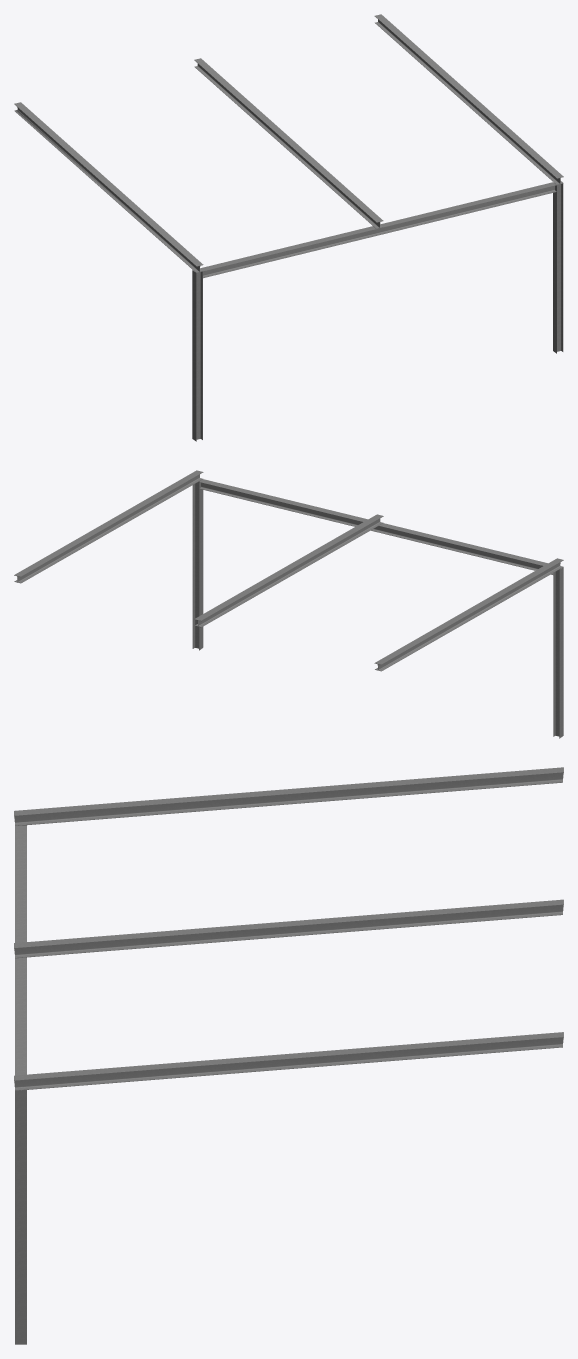
Rendered from frame__up_1.glb.
3 renders of one model, top to bottom at view 1: azimuth 30°, elevation 25°; view 2: azimuth 150°, elevation 25°; view 3: azimuth 270°, elevation 25°, orthographic. The views are drawn at different scales.
Visible parts, largest first — view 1: 3DGeom-3, 3DGeom-6, 3DGeom-4, 3DGeom-8, Assembly-9, 3DGeom-2; view 2: 3DGeom-3, 3DGeom-6, 3DGeom-4, 3DGeom-8, 3DGeom-2, Assembly-9; view 3: 3DGeom-6, 3DGeom-4, 3DGeom-8, 3DGeom-2, 3DGeom-3.
Boxes of the visible parts, left/top/right/bottom form: 3DGeom-3: left=200, top=182, right=556, bottom=278; 3DGeom-6: left=194, top=58, right=383, bottom=228; 3DGeom-4: left=14, top=102, right=203, bottom=272; 3DGeom-8: left=374, top=14, right=563, bottom=184; Assembly-9: left=192, top=270, right=202, bottom=441; 3DGeom-2: left=553, top=182, right=563, bottom=353; 3DGeom-3: left=199, top=479, right=553, bottom=574; 3DGeom-6: left=194, top=514, right=383, bottom=627; 3DGeom-4: left=374, top=558, right=563, bottom=671; 3DGeom-8: left=14, top=470, right=203, bottom=583; 3DGeom-2: left=192, top=479, right=203, bottom=650; Assembly-9: left=553, top=567, right=563, bottom=738; 3DGeom-6: left=14, top=899, right=563, bottom=958; 3DGeom-4: left=14, top=767, right=563, bottom=825; 3DGeom-8: left=14, top=1032, right=563, bottom=1090; 3DGeom-2: left=15, top=1090, right=26, bottom=1344; 3DGeom-3: left=15, top=826, right=26, bottom=1075.
Size of the model in its own units: 13.45 by 7.16 by 11.59.
Materials: 1 (1 with a texture image).
